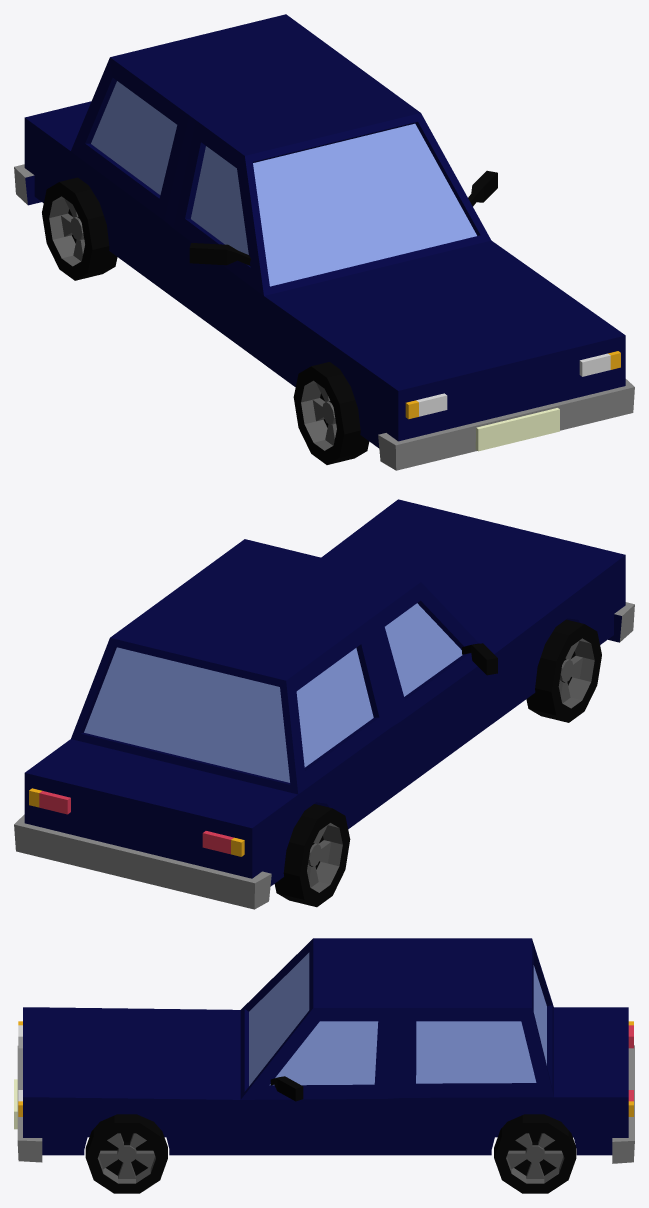
The model's file is CocheTexturas.fbx.
The picture shows the model from 3 angles, top to bottom: view 1: azimuth 30°, elevation 25°; view 2: azimuth 150°, elevation 25°; view 3: azimuth 270°, elevation 25°; orthographic projection. The views are drawn at different scales.
Parts seen in each view (by area): view 1: Coche, TraseraD, DelanteraD, Cubo.003, Cubo.002, Cubo; view 2: Coche, DelanteraD, TraseraD, Cubo.001, Cubo.002; view 3: Coche, DelanteraI, TraseraI, Cubo.002.
Part boxes in pixels (<box>): Coche: <box>14,14,634,470</box>; TraseraD: <box>42,177,117,280</box>; DelanteraD: <box>293,362,369,464</box>; Cubo.003: <box>475,408,559,451</box>; Cubo.002: <box>189,170,497,265</box>; Cubo: <box>405,351,620,419</box>; Coche: <box>14,499,634,909</box>; DelanteraD: <box>526,619,601,722</box>; TraseraD: <box>274,804,350,907</box>; Cubo.001: <box>29,788,244,856</box>; Cubo.002: <box>462,643,497,675</box>; Coche: <box>17,938,634,1163</box>; DelanteraI: <box>85,1114,167,1193</box>; TraseraI: <box>494,1114,576,1193</box>; Cubo.002: <box>270,1076,303,1101</box>.
Size of the model in its own units: 271 by 176 by 583.
